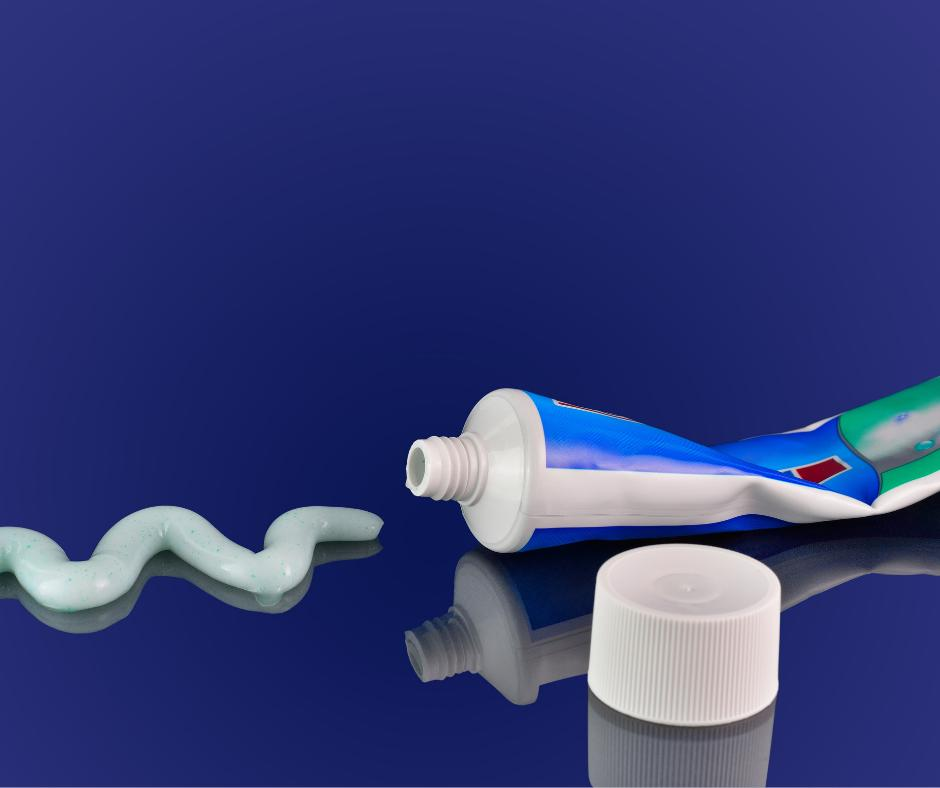toothpaste: (375, 332, 940, 597)
